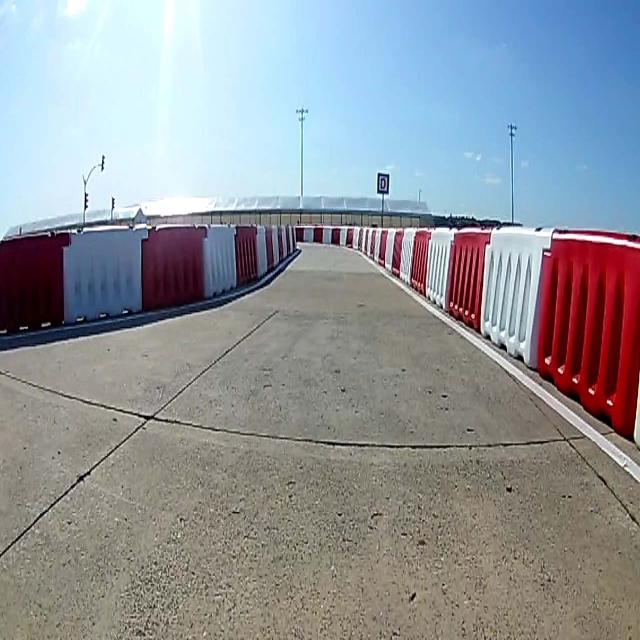durak: (377, 171, 389, 193)
